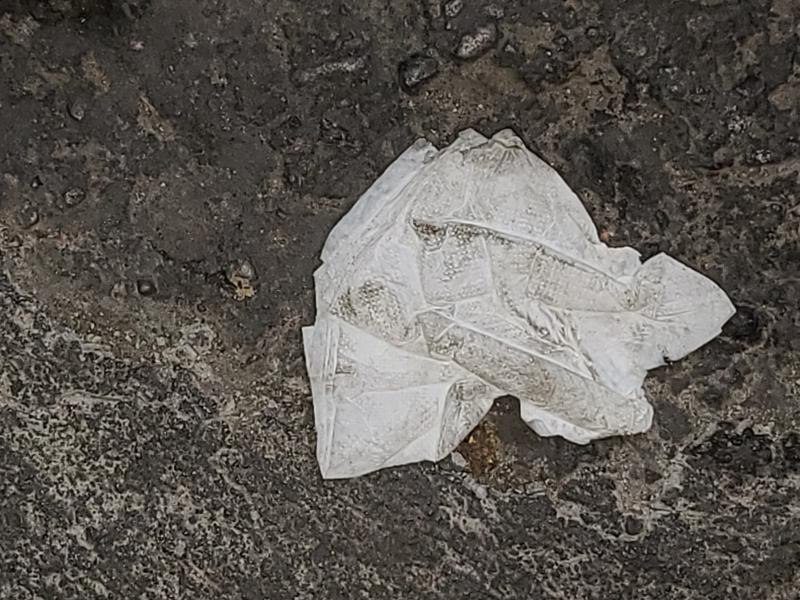papel: (300, 129, 738, 481)
